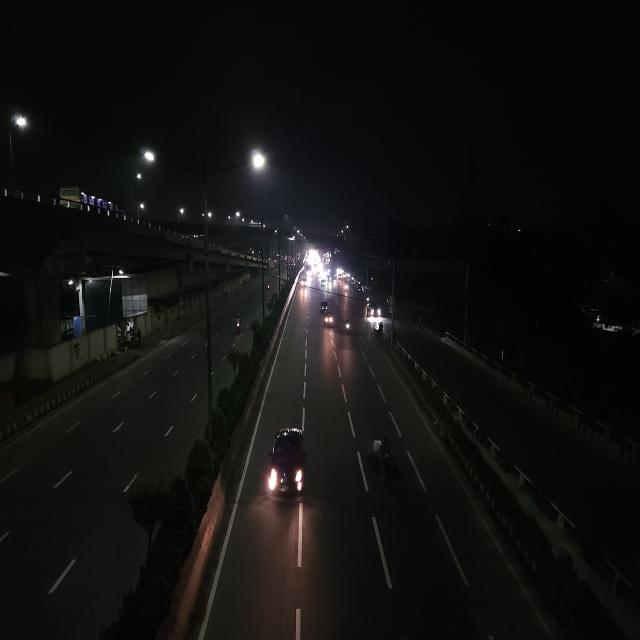car: (263, 425, 309, 506), (366, 300, 382, 318), (323, 310, 335, 329)
cng: (318, 297, 330, 315)
motorcycle: (232, 312, 244, 336), (344, 314, 352, 335)
pedestrian: (376, 320, 386, 338)
rickshaw: (364, 433, 394, 486)
